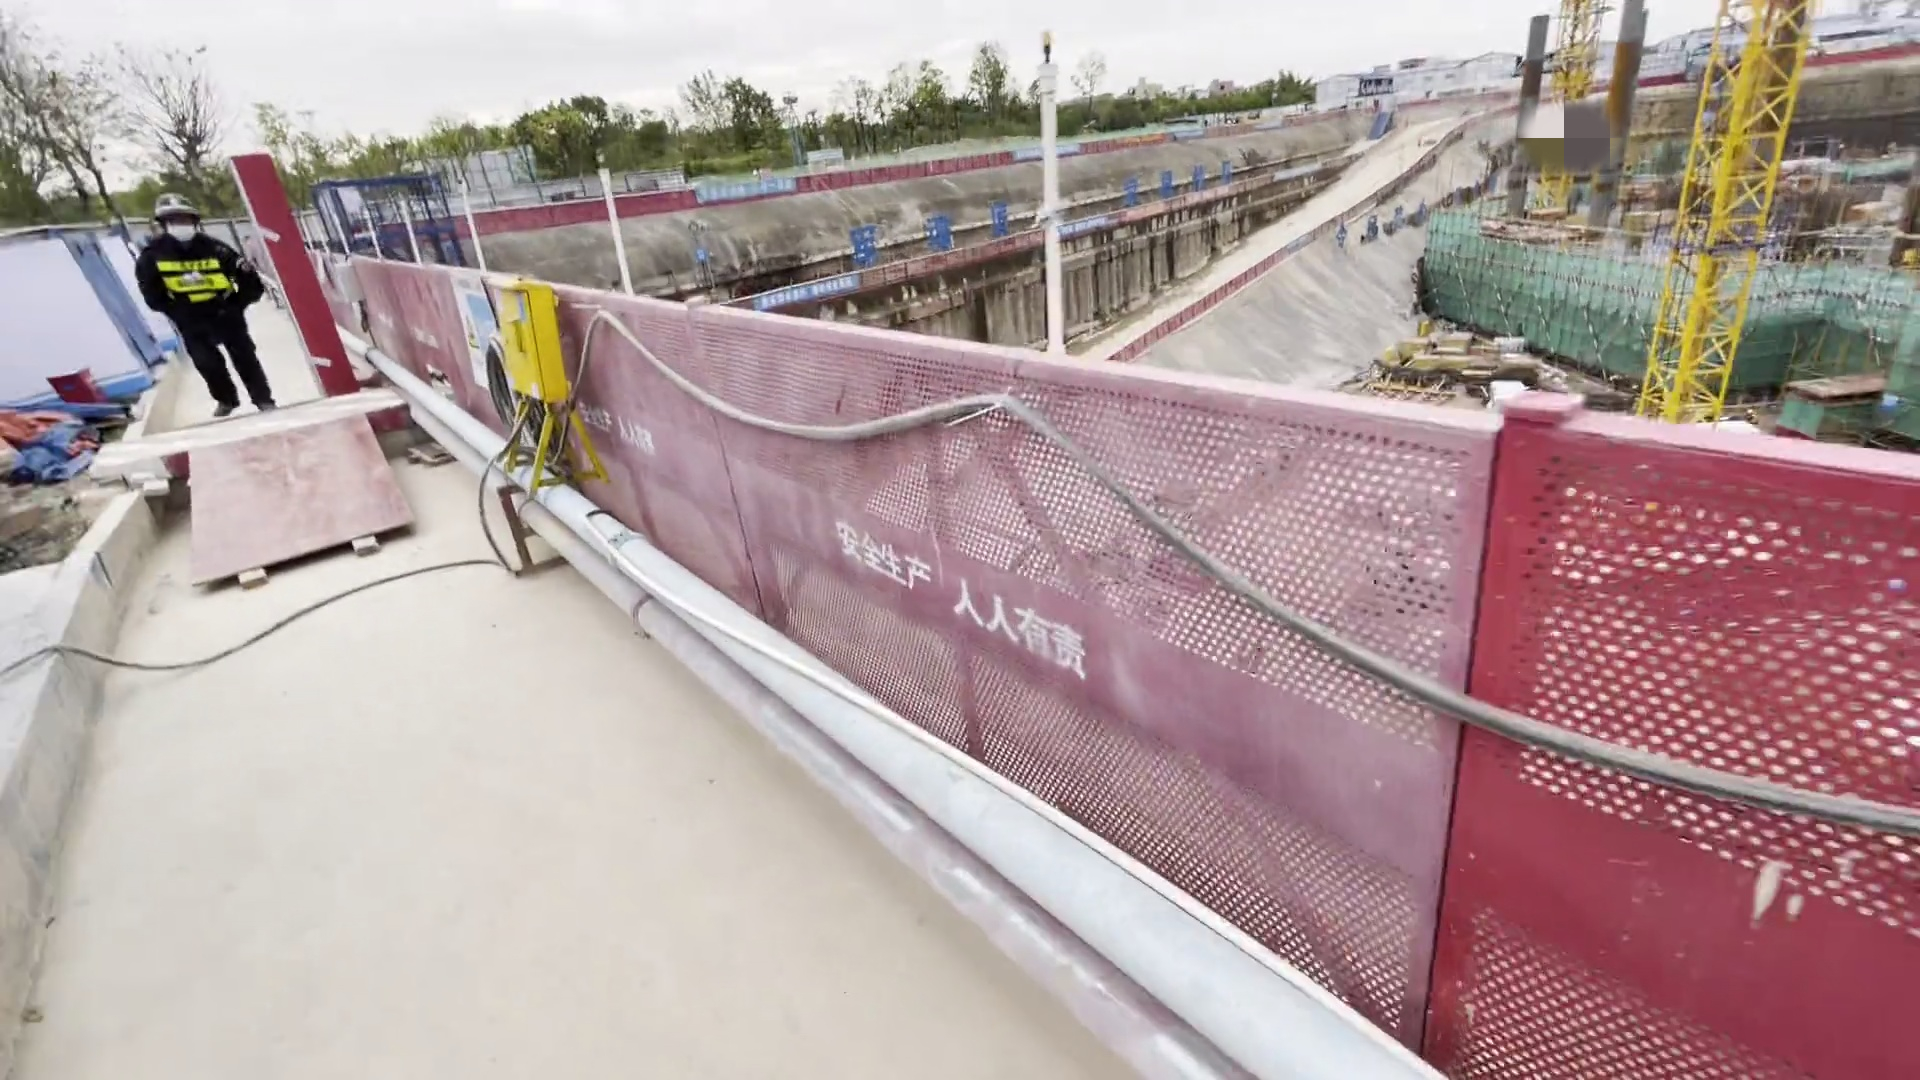board: (177, 414, 444, 599), (1402, 331, 1477, 370)
ebox: (476, 269, 579, 447)
fence: (756, 311, 1484, 1080), (1464, 393, 1920, 1080), (314, 246, 767, 631), (464, 191, 707, 243), (742, 268, 937, 316), (933, 259, 935, 273)
helmet: (147, 187, 215, 223)
person: (129, 181, 289, 427)
scaffold: (1489, 376, 1529, 400), (1495, 332, 1527, 356)
slogan: (445, 259, 517, 411), (741, 262, 875, 307), (687, 166, 804, 205), (1049, 209, 1119, 251)
vest: (133, 234, 248, 318)
